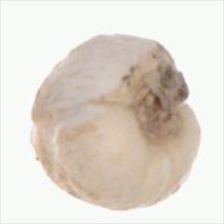L4: (29, 34, 201, 210)
